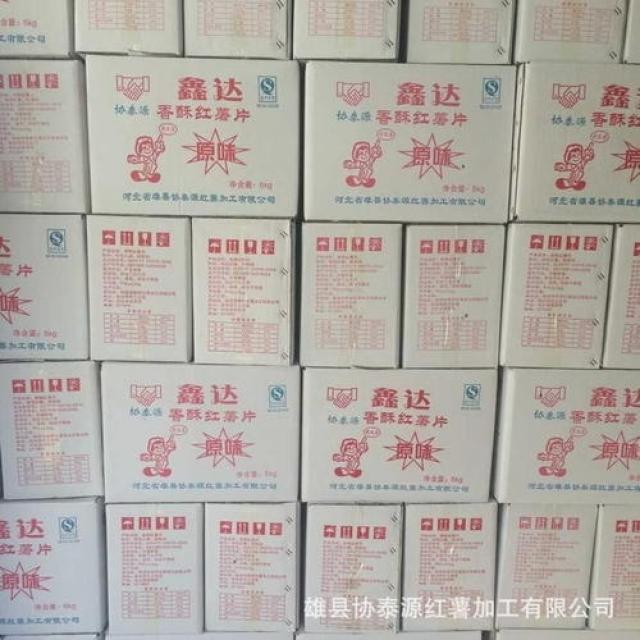box: (86, 54, 300, 218), (303, 61, 517, 223), (102, 362, 301, 502), (302, 369, 498, 503), (513, 64, 639, 221), (494, 370, 639, 504), (500, 224, 614, 369), (87, 214, 192, 364), (192, 218, 297, 364), (300, 224, 402, 367), (0, 500, 105, 635), (1, 361, 104, 498), (404, 227, 504, 367), (0, 59, 90, 214), (495, 503, 596, 630), (303, 503, 402, 632), (105, 503, 201, 634), (401, 502, 497, 630), (205, 502, 298, 631), (513, 1, 626, 64), (293, 0, 406, 59), (74, 0, 183, 61), (408, 1, 512, 64), (184, 0, 292, 58), (589, 506, 639, 627), (603, 225, 639, 369), (3, 0, 79, 60), (621, 0, 640, 63)
